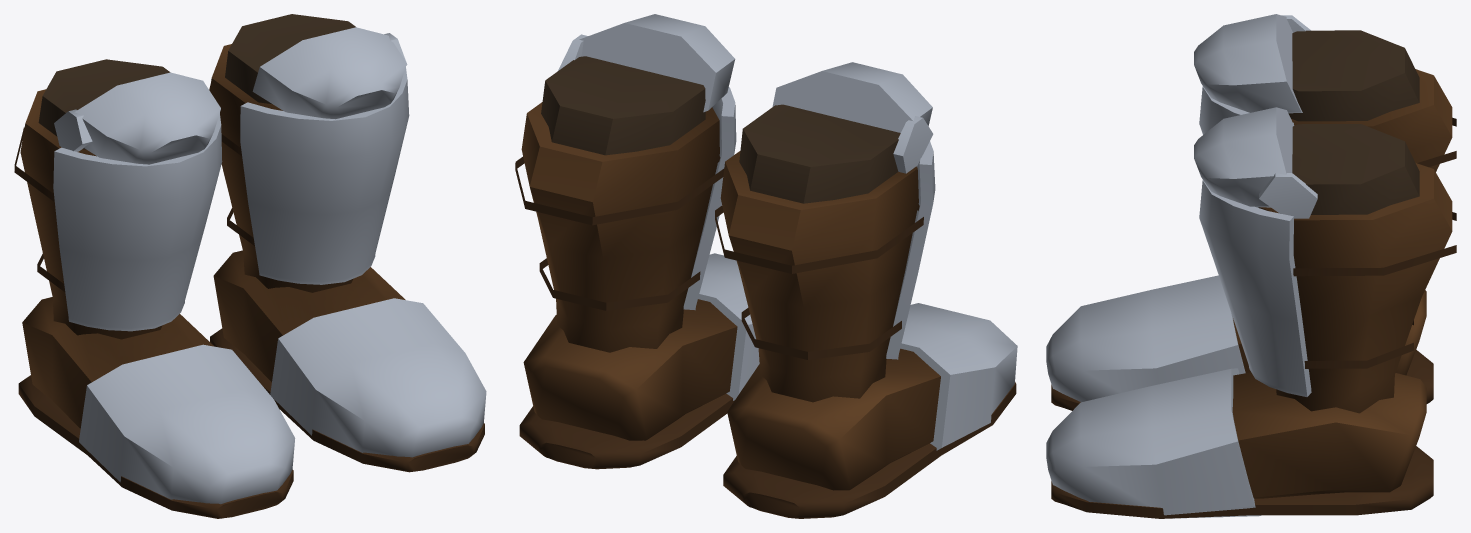
The model's file is f_plated_d.glb.
3 views of the same model, side by side, from view 1: azimuth 30°, elevation 25°; view 2: azimuth 150°, elevation 25°; view 3: azimuth 270°, elevation 25° (orthographic). The views are drawn at different scales.
Parts seen in each view (by area): view 1: LegR_Boot, LegL_Boot, LegR_BootFoot, LegL_BootFoot, LegL_Shin, LegR_Shin; view 2: LegR_Boot, LegL_Boot, LegR_BootFoot, LegL_BootFoot, LegL_Shin, LegR_Shin; view 3: LegL_Boot, LegL_BootFoot, LegR_BootFoot, LegR_Boot, LegR_Shin, LegL_Shin.
Part boxes in pixels (x1,y1,x2,y2): LegR_Boot: (14,72,222,339); LegL_Boot: (209,27,409,292); LegR_BootFoot: (18,297,295,518); LegL_BootFoot: (210,250,486,472); LegL_Shin: (225,14,355,104); LegR_Shin: (38,59,170,149); LegR_Boot: (715,62,935,402); LegL_Boot: (515,14,736,352); LegR_BootFoot: (723,303,1017,518); LegL_BootFoot: (519,253,759,469); LegL_Shin: (541,56,705,155); LegR_Shin: (739,104,900,203); LegL_Boot: (1194,107,1456,413); LegL_BootFoot: (1046,368,1433,518); LegR_BootFoot: (1046,275,1433,410); LegR_Boot: (1194,14,1456,171); LegR_Shin: (1288,30,1419,121); LegL_Shin: (1292,124,1419,214).
Size of the model in its own units: 0.4077 by 0.4012 by 0.3973.
